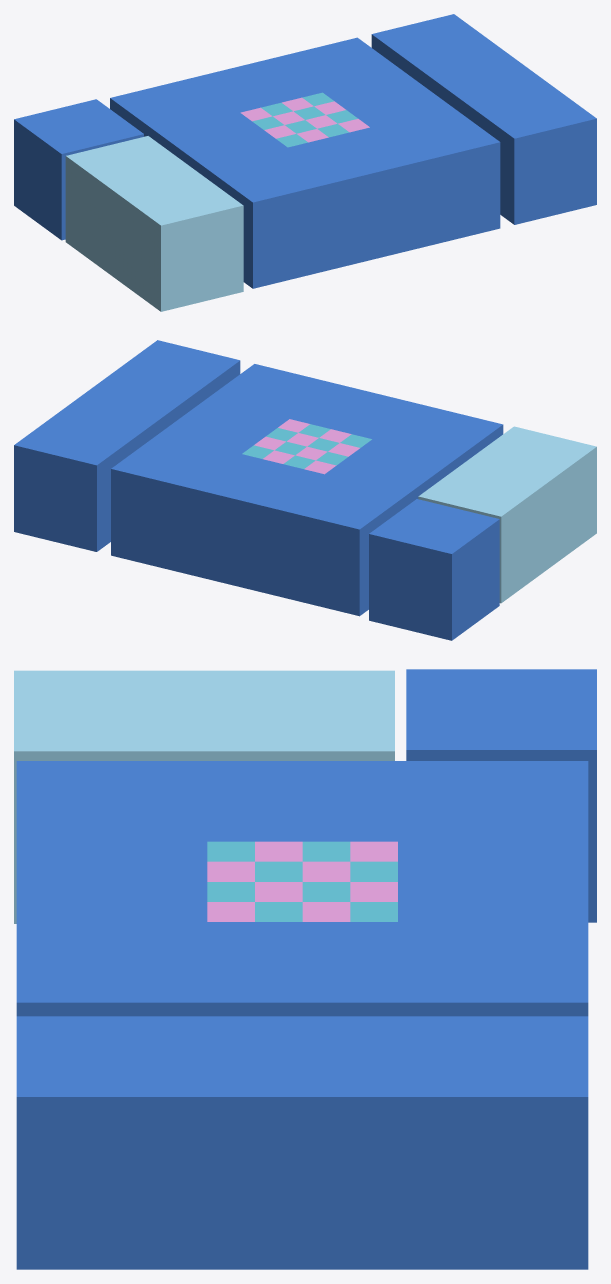
Rendered from Cubbies_Block.fbx.
The picture shows the model from 3 angles, top to bottom: view 1: azimuth 30°, elevation 25°; view 2: azimuth 150°, elevation 25°; view 3: azimuth 270°, elevation 25°; orthographic projection. The views are drawn at different scales.
Parts seen in each view (by area): view 1: Xuat phat, Block tang hinh, Block2, Block1; view 2: Xuat phat, Block2, Block tang hinh, Block1; view 3: Xuat phat, Block2, Block tang hinh, Block1.
Part boxes in pixels (box(x1,y1,x2,y2)): Xuat phat: box(110, 37, 500, 288); Block tang hinh: box(65, 136, 243, 311); Block2: box(371, 14, 596, 224); Block1: box(14, 99, 143, 240); Xuat phat: box(111, 364, 503, 616); Block2: box(14, 340, 240, 551); Block tang hinh: box(418, 426, 596, 603); Block1: box(369, 499, 499, 640); Xuat phat: box(16, 761, 588, 1016); Block2: box(16, 1016, 588, 1269); Block tang hinh: box(14, 670, 394, 923); Block1: box(406, 669, 596, 922).
Size of the model in its own units: 10.62 by 6.12 by 2.
